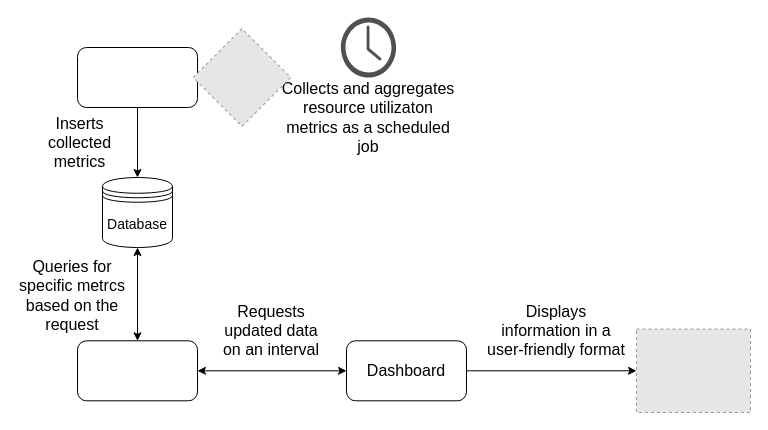
Some shapes in this 768 by 430 pixel diagram are drawn without their labels. Grey dashed boxes stand in for pictures. Here are the shapes that lost their labels. From the top down, the box of each, then its label:
(76, 46, 198, 108): Monitor
(76, 340, 198, 401): API
